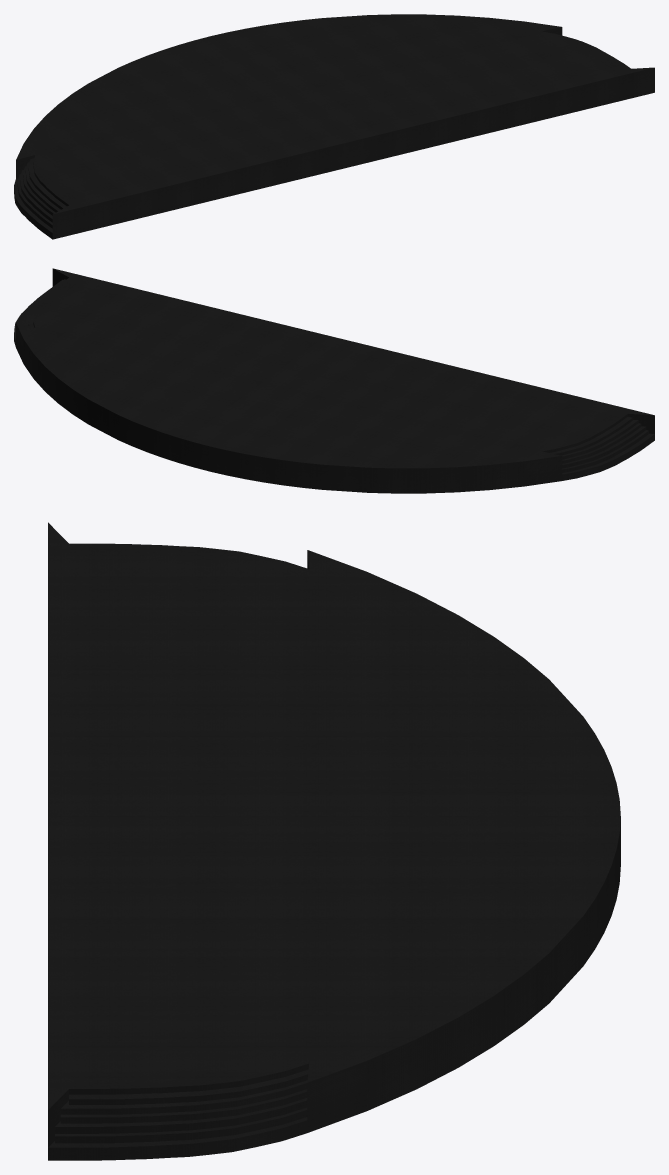
File: palanque.fbx
3 renders of one model, top to bottom at view 1: azimuth 30°, elevation 25°; view 2: azimuth 150°, elevation 25°; view 3: azimuth 270°, elevation 25°, orthographic. The views are drawn at different scales.
Parts seen in each view (by area): view 1: Circle.012; view 2: Circle.012; view 3: Circle.012.
Part boxes in pixels (x1,y1,x2,y2): Circle.012: [14, 14, 654, 239]; Circle.012: [14, 268, 654, 493]; Circle.012: [48, 522, 620, 1160].
Size of the model in its own units: 12395 by 495 by 5104.
